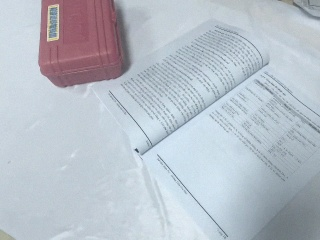box: (35, 1, 128, 89)
